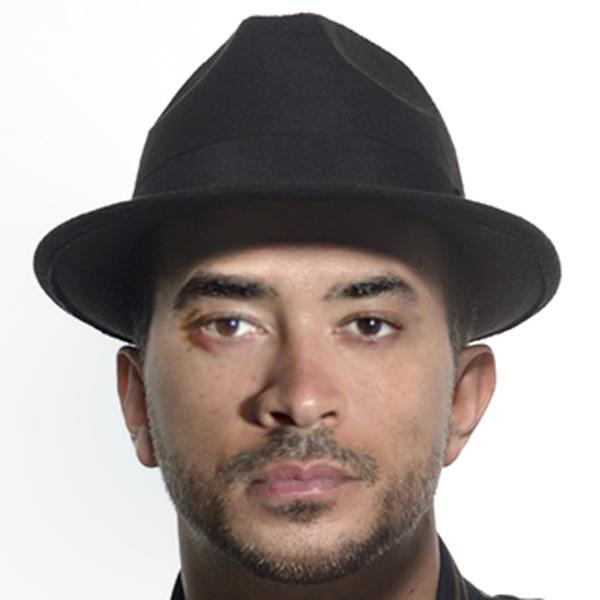Eyes: (185, 303, 274, 356), (325, 304, 410, 350)
